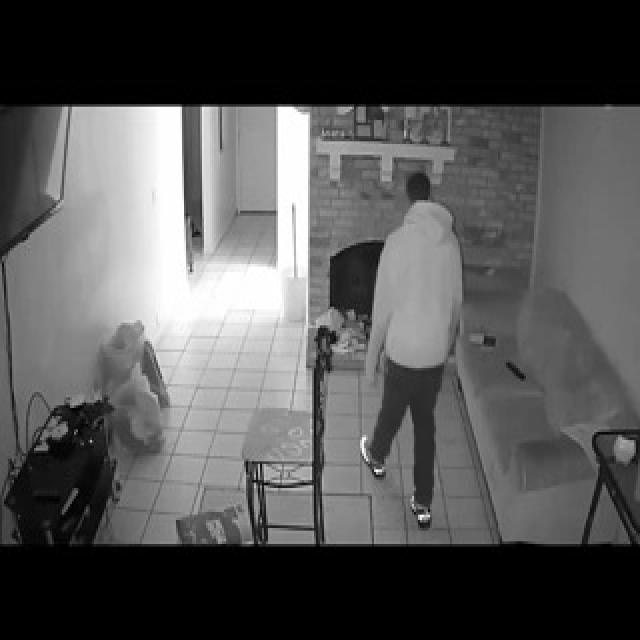thief: (394, 166, 458, 339)
